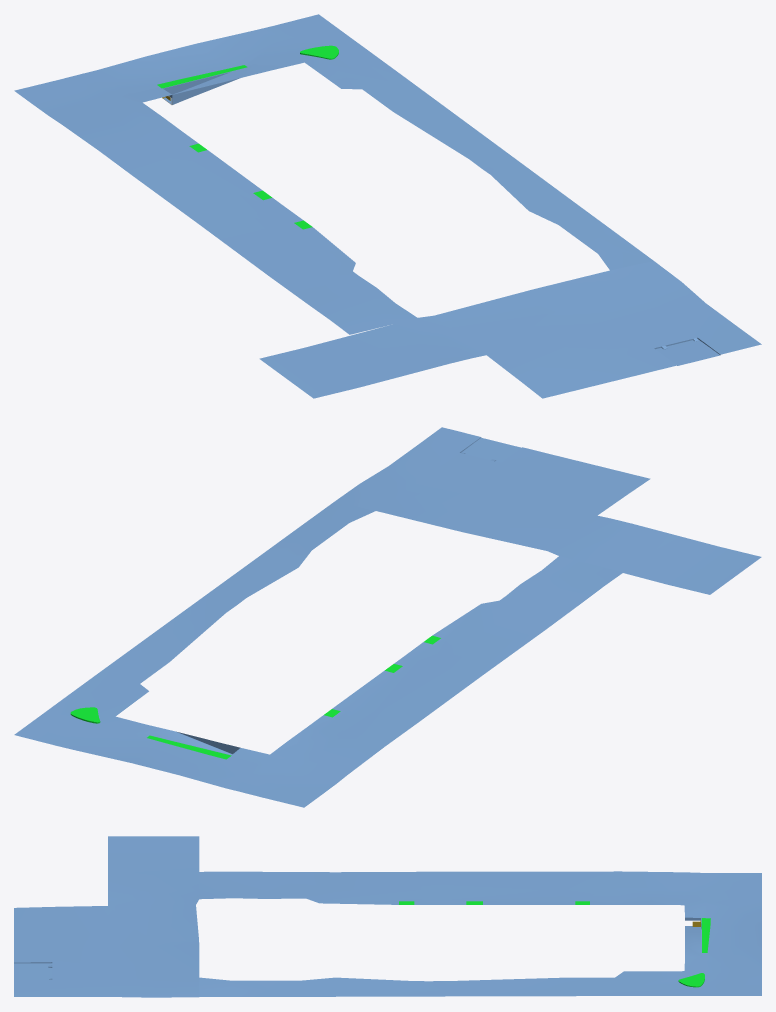
The model's file is TaiYuan_WanDaGuangChang_ground.FBX.
3 views of the same model, one above another, from view 1: azimuth 30°, elevation 25°; view 2: azimuth 150°, elevation 25°; view 3: azimuth 270°, elevation 25° (orthographic). The views are drawn at different scales.
Parts seen in each view (by area): view 1: ty_wdgc_ground_02, ty_wdgc_ground_01; view 2: ty_wdgc_ground_02, ty_wdgc_ground_01; view 3: ty_wdgc_ground_02, ty_wdgc_ground_01.
Part boxes in pixels (x1=…): ty_wdgc_ground_02: x1=14, y1=14, x2=653, y2=334; ty_wdgc_ground_01: x1=259, y1=261, x2=761, y2=398; ty_wdgc_ground_02: x1=14, y1=502, x2=623, y2=807; ty_wdgc_ground_01: x1=334, y1=427, x2=761, y2=594; ty_wdgc_ground_02: x1=199, y1=871, x2=761, y2=996; ty_wdgc_ground_01: x1=14, y1=836, x2=199, y2=997.
Size of the model in its own units: 225 by 6.17 by 439.
